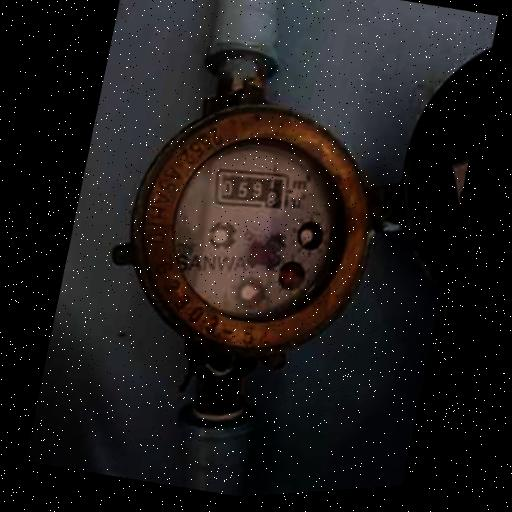0: (217, 173, 240, 202)
5: (231, 173, 254, 204)
7: (260, 175, 288, 213)
9: (246, 174, 269, 204)
border_water_meter_number: (209, 158, 296, 221)
